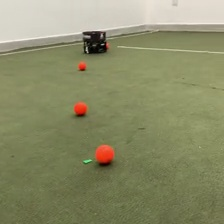ball: (94, 141, 115, 165), (73, 100, 87, 116), (78, 60, 88, 70)
robot: (81, 29, 108, 55)
